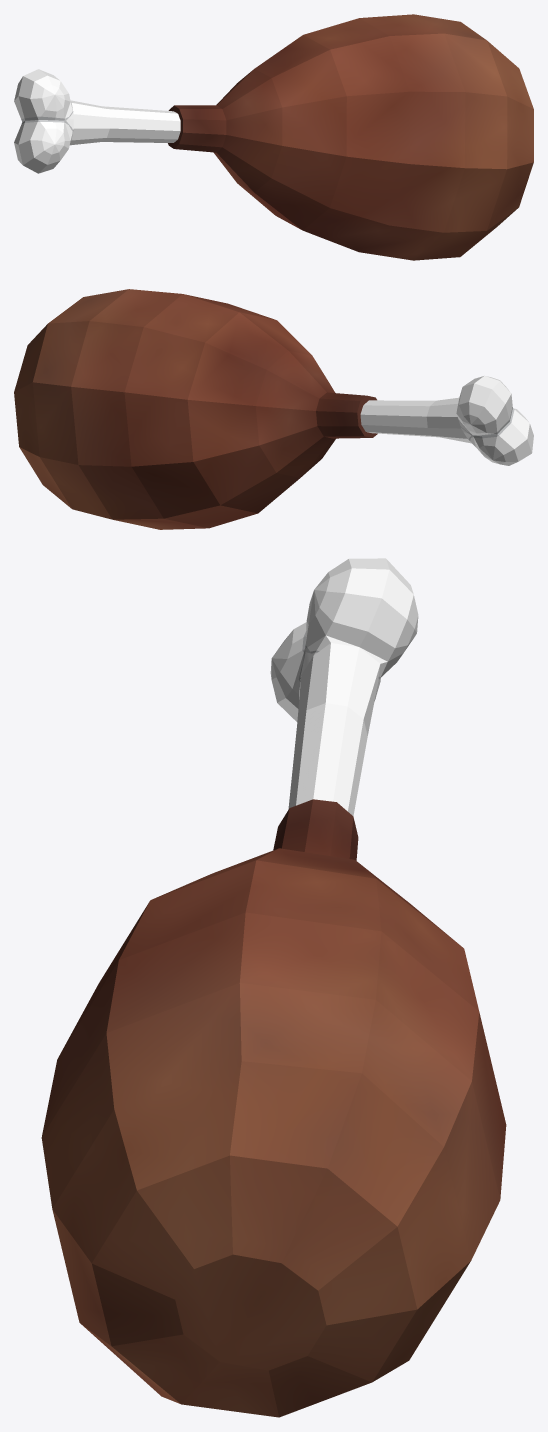
The model's file is TURKEY LEG.fbx.
The picture shows the model from 3 angles, top to bottom: view 1: azimuth 30°, elevation 25°; view 2: azimuth 150°, elevation 25°; view 3: azimuth 270°, elevation 25°; orthographic projection. The views are drawn at different scales.
Visible parts, largest first — view 1: TURKEY LEG; view 2: TURKEY LEG; view 3: TURKEY LEG.
Part boxes in pixels (x1,y1,x2,y2): TURKEY LEG: [14, 14, 533, 260]; TURKEY LEG: [14, 289, 533, 529]; TURKEY LEG: [41, 558, 506, 1417].
Bounding box in the file's own units: 32.43 × 15.31 × 13.43.
